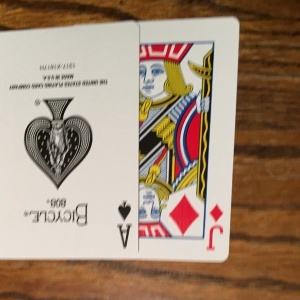card: (137, 18, 232, 262)
